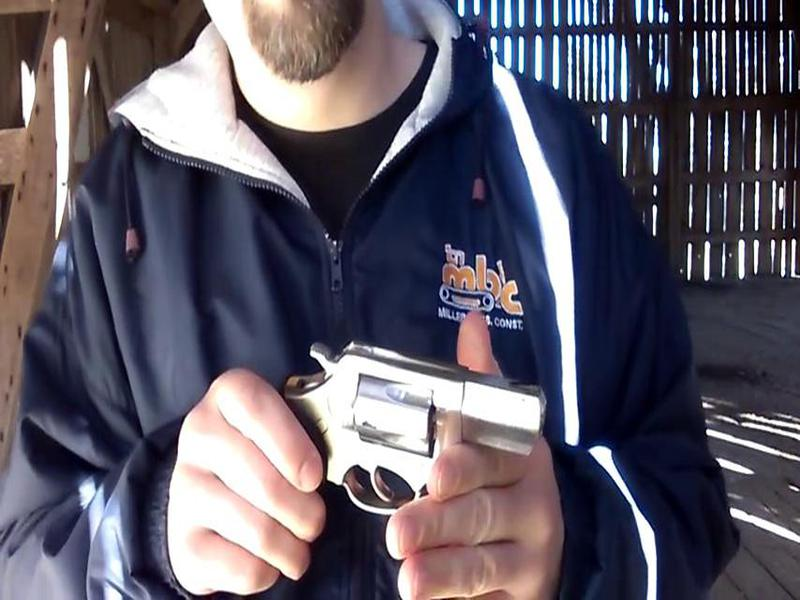Revolver: (280, 321, 557, 527)
